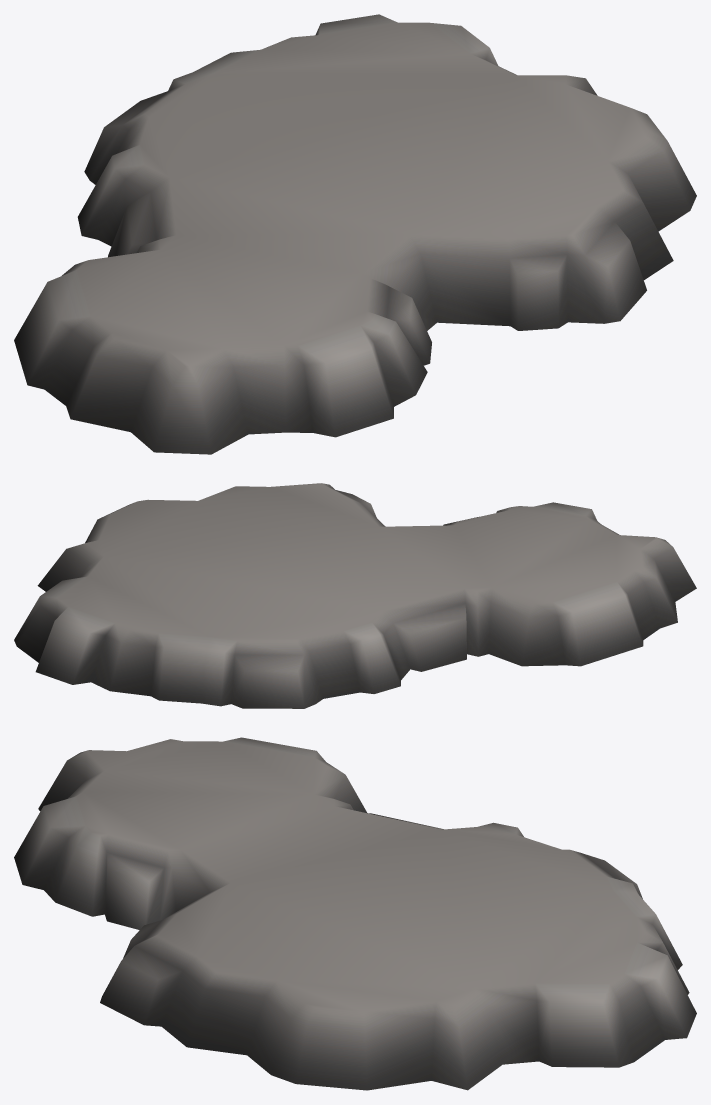
File: m_Platform02_A.fbx
The picture shows the model from 3 angles, top to bottom: view 1: azimuth 30°, elevation 25°; view 2: azimuth 150°, elevation 25°; view 3: azimuth 270°, elevation 25°; orthographic projection. The views are drawn at different scales.
Visible parts, largest first — view 1: m_Platform02_A; view 2: m_Platform02_A; view 3: m_Platform02_A.
Part boxes in pixels (x1=…): m_Platform02_A: x1=14, y1=14, x2=696, y2=454; m_Platform02_A: x1=14, y1=483, x2=696, y2=708; m_Platform02_A: x1=14, y1=737, x2=696, y2=1090.
Bounding box in the file's own units: 2233 × 200 × 2066.
